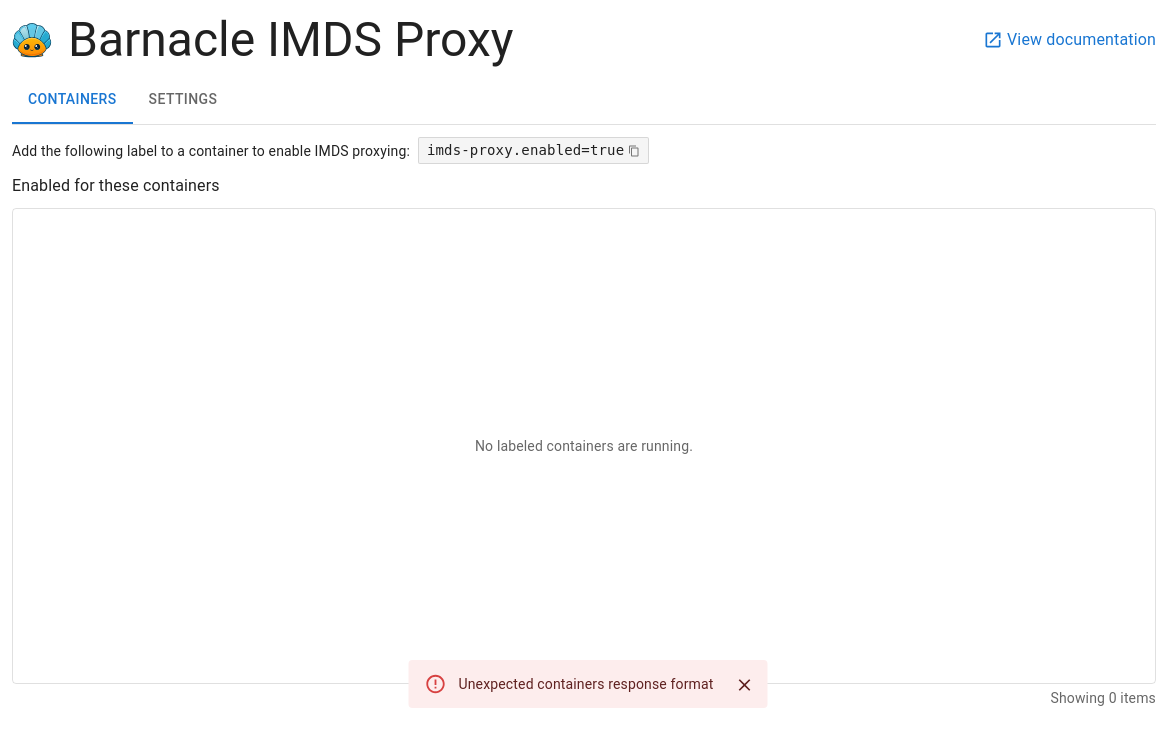
Test: App › closes snackbar when close button is clicked
The width and height of the screenshot is (1164, 732).
Check: the text "Unexpected containers response format" is shown, box [458, 676, 714, 692]
What coordinates should you click on to do the following:
click the button named "close"
I would click on:
 (744, 685)
Its box is [730, 670, 760, 700].
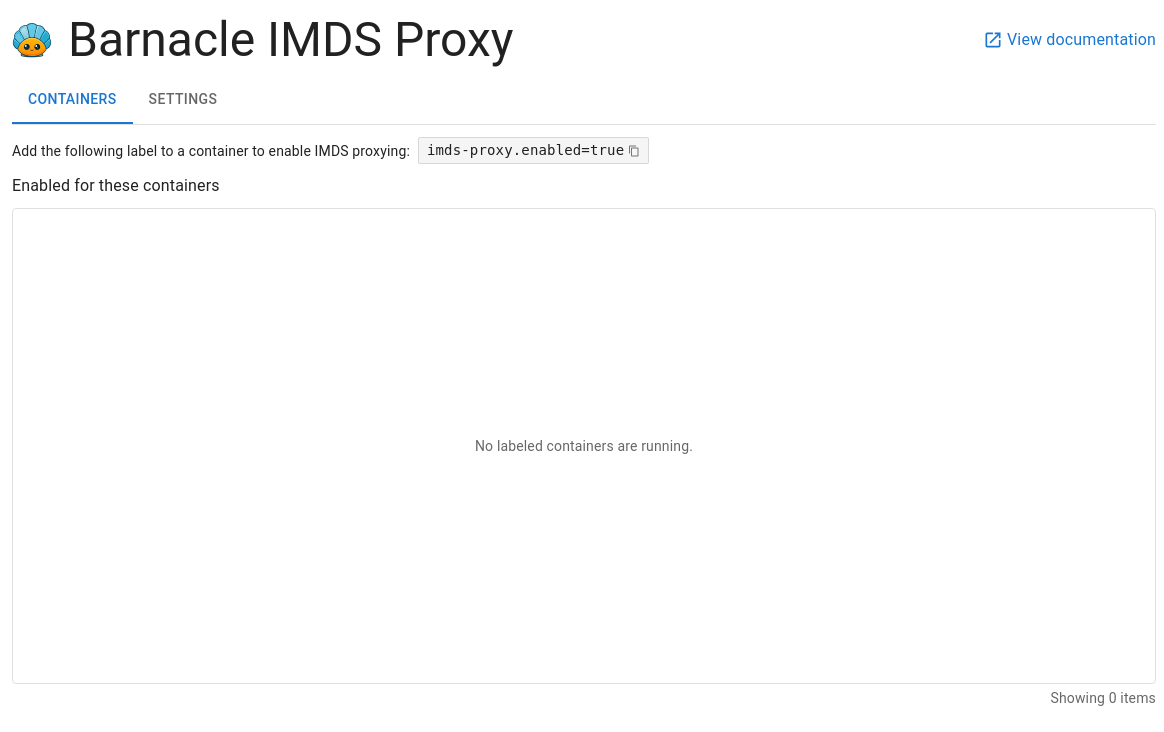
Check: the text "Unexpected containers response format" is gone
